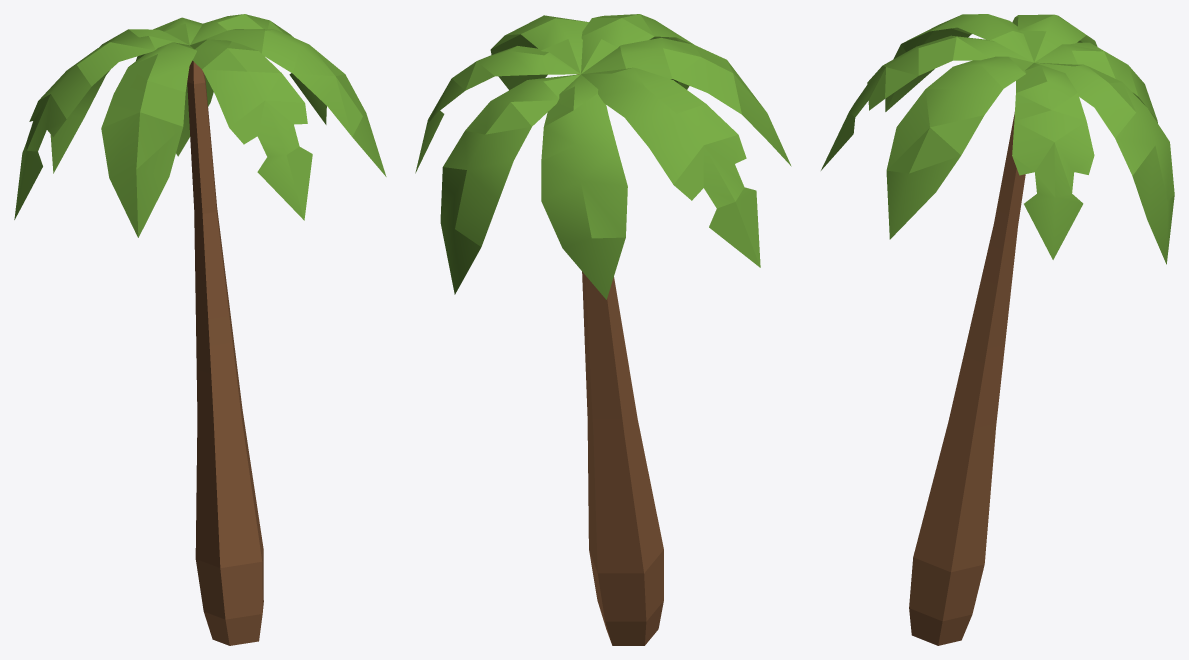
File: palm__1_.obj
The picture shows the model from 3 angles, left to right: view 1: azimuth 30°, elevation 25°; view 2: azimuth 150°, elevation 25°; view 3: azimuth 270°, elevation 25°; orthographic projection. The views are drawn at different scales.
Parts seen in each view (by area): view 1: palm__1__Scene.010; view 2: palm__1__Scene.010; view 3: palm__1__Scene.010.
Part boxes in pixels (x1,y1,x2,y2): palm__1__Scene.010: (14, 14, 386, 645); palm__1__Scene.010: (415, 14, 791, 645); palm__1__Scene.010: (821, 14, 1174, 645).
Bounding box in the file's own units: 3.55 × 6.26 × 3.35.
